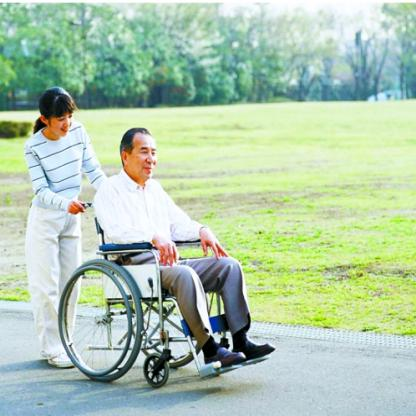wheelchair: (60, 124, 276, 389)
